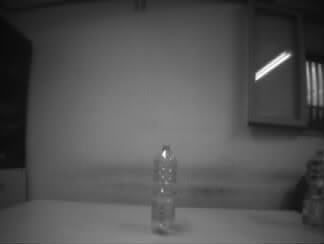Bottle: (150, 144, 178, 235)
